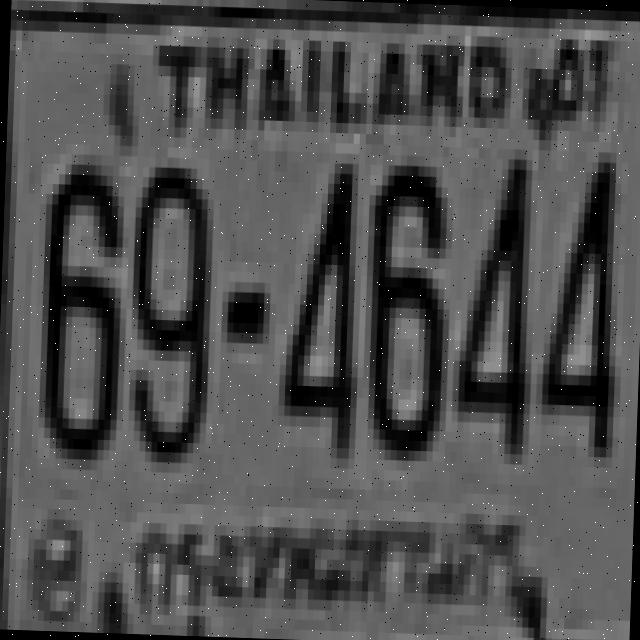4: (276, 156, 358, 454), (450, 152, 532, 449), (537, 150, 619, 447)
6: (31, 153, 120, 450), (360, 154, 448, 451)
9: (124, 156, 212, 453)
SaraBuri: (130, 476, 540, 636)
